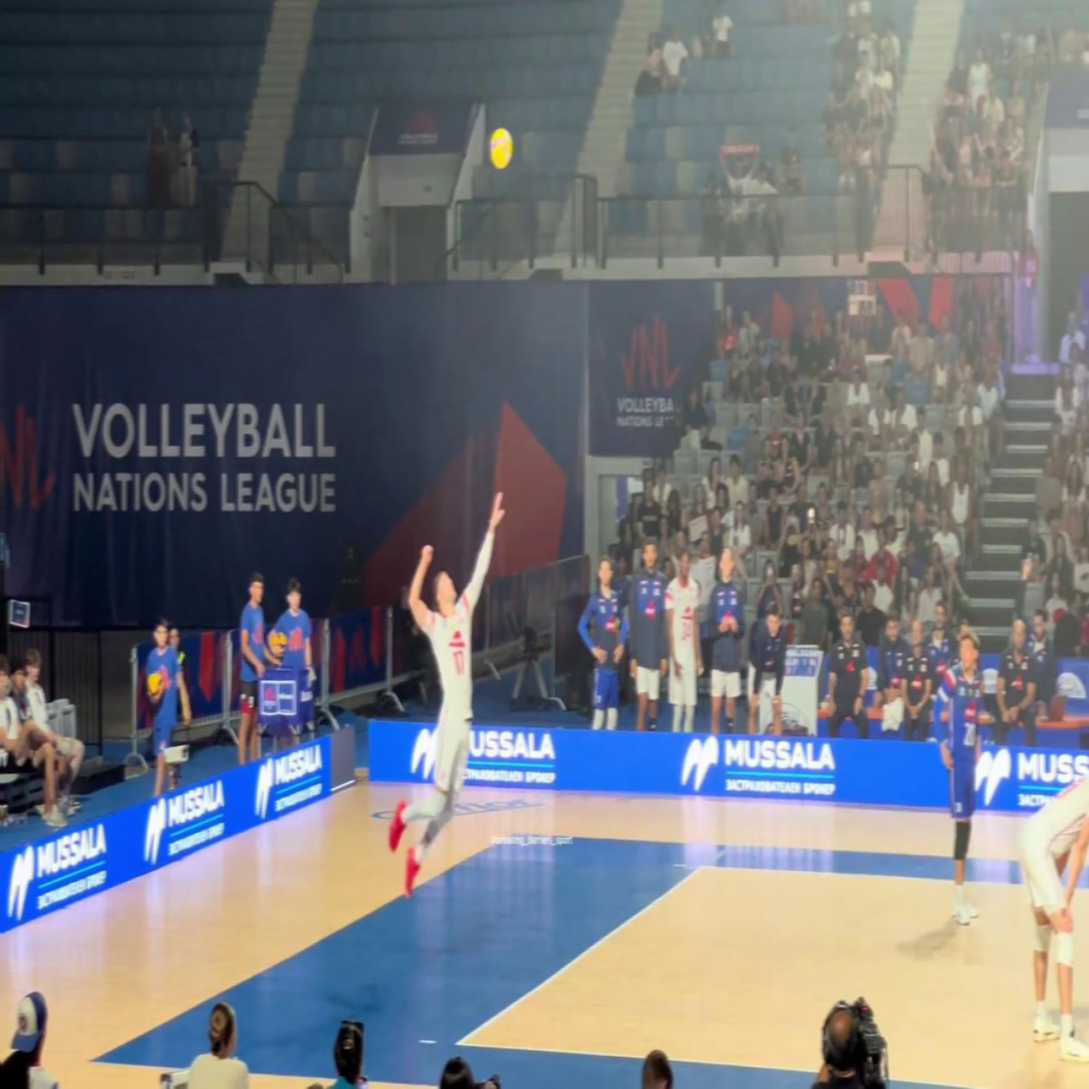ball: (488, 127, 512, 171)
